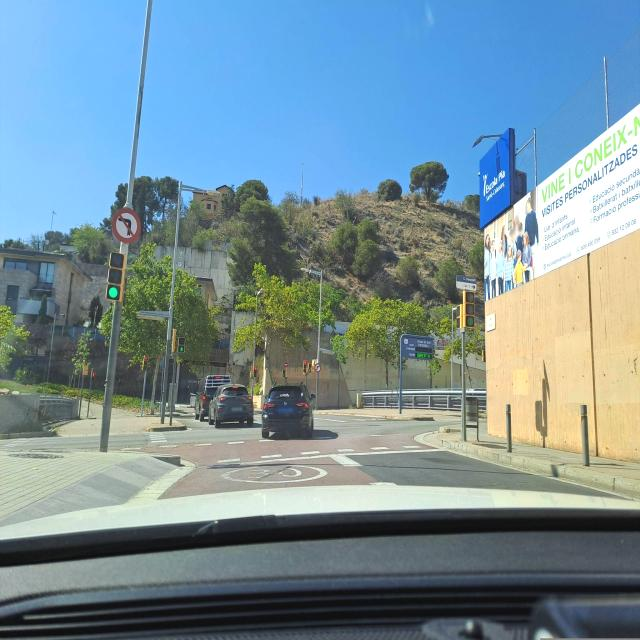car: (261, 382, 315, 438), (208, 383, 254, 427), (194, 374, 232, 420)
